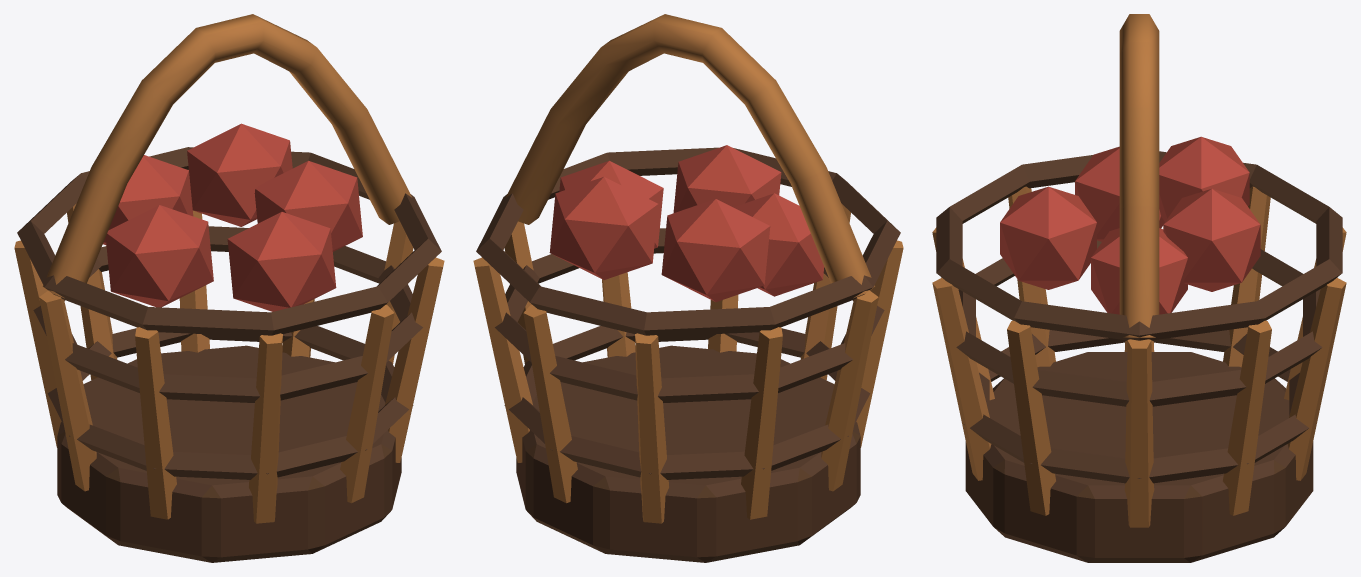
The model's file is prop_harvest_basket_a.glb.
The picture shows the model from 3 angles, left to right: view 1: azimuth 30°, elevation 25°; view 2: azimuth 150°, elevation 25°; view 3: azimuth 270°, elevation 25°; orthographic projection.
Parts seen in each view (by area): view 1: harvest_basket_base, harvest_basket_handle, harvest_basket_produce_00; view 2: harvest_basket_base, harvest_basket_handle, harvest_basket_produce_00; view 3: harvest_basket_base, harvest_basket_handle, harvest_basket_produce_00.
Boxes of the visible parts, bbox=[...] form: harvest_basket_base: bbox=[17, 147, 441, 562]; harvest_basket_handle: bbox=[14, 14, 444, 523]; harvest_basket_produce_00: bbox=[103, 123, 362, 311]; harvest_basket_base: bbox=[476, 147, 900, 562]; harvest_basket_handle: bbox=[473, 14, 903, 523]; harvest_basket_produce_00: bbox=[549, 145, 824, 301]; harvest_basket_base: bbox=[936, 151, 1342, 562]; harvest_basket_handle: bbox=[932, 14, 1346, 527]; harvest_basket_produce_00: bbox=[1000, 136, 1260, 314].
Size of the model in its own units: 0.7548 by 0.9053 by 0.7259.
